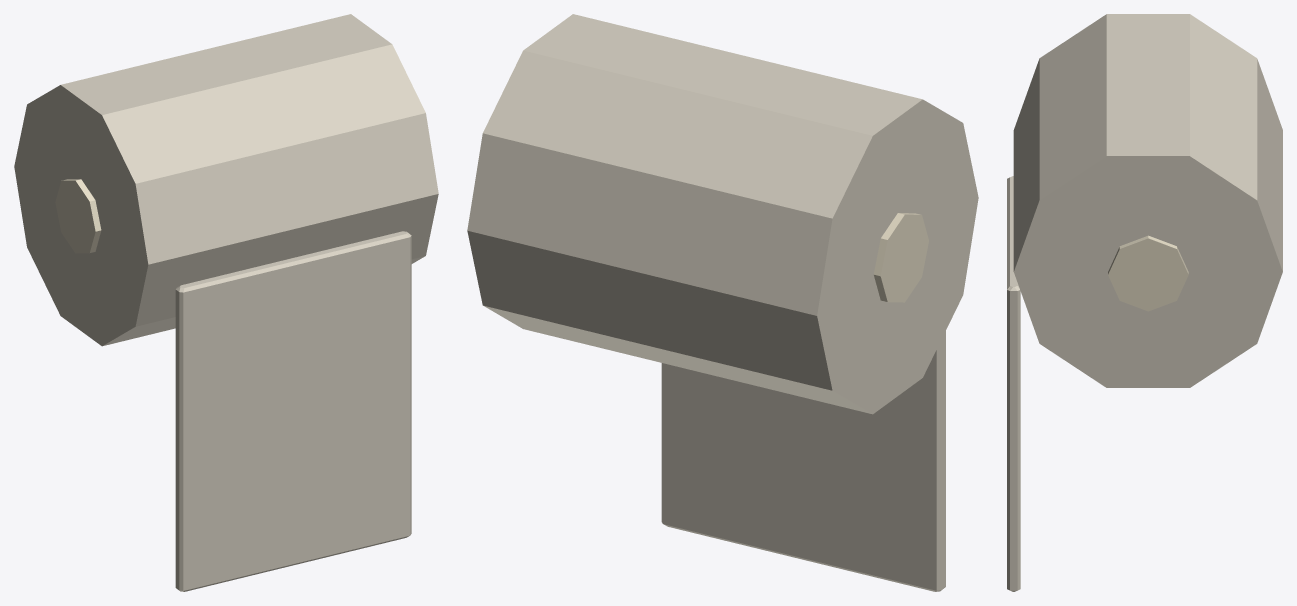
The model's file is SM_FP_Item_Bende.glb.
3 renders of one model, left to right at view 1: azimuth 30°, elevation 25°; view 2: azimuth 150°, elevation 25°; view 3: azimuth 270°, elevation 25°, orthographic. The views are drawn at different scales.
Visible parts, largest first — view 1: SM_FP_Item_Bende; view 2: SM_FP_Item_Bende; view 3: SM_FP_Item_Bende.
Boxes of the visible parts, x1,y1,x2,y2 form: SM_FP_Item_Bende: (14, 14, 438, 591); SM_FP_Item_Bende: (467, 14, 978, 591); SM_FP_Item_Bende: (1007, 14, 1282, 591).
Bounding box in the file's own units: 0.104 × 0.148 × 0.082.
Materials: 1 (1 with a texture image).
